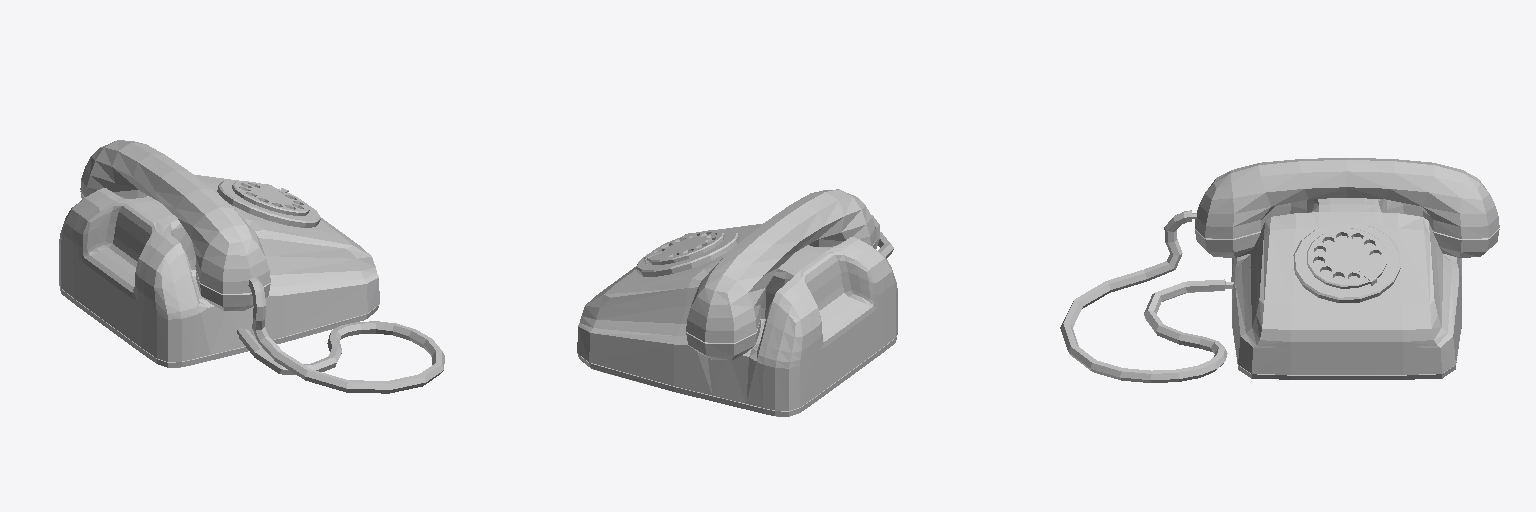
File: phone.obj
3 views of the same model, side by side, from view 1: azimuth 30°, elevation 25°; view 2: azimuth 150°, elevation 25°; view 3: azimuth 270°, elevation 25° (orthographic).
Visible parts, largest first — view 1: phone_NurbsPath; view 2: phone_NurbsPath; view 3: phone_NurbsPath.
Part boxes in pixels (x1,y1,x2,y2): phone_NurbsPath: (59,140,444,393); phone_NurbsPath: (577,189,897,416); phone_NurbsPath: (1060,158,1499,382).
Size of the model in its own units: 1.33 by 0.8132 by 2.21.